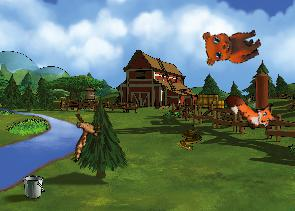bear: (197, 15, 265, 73)
eagle: (61, 107, 108, 162)
fox: (222, 78, 283, 139)
